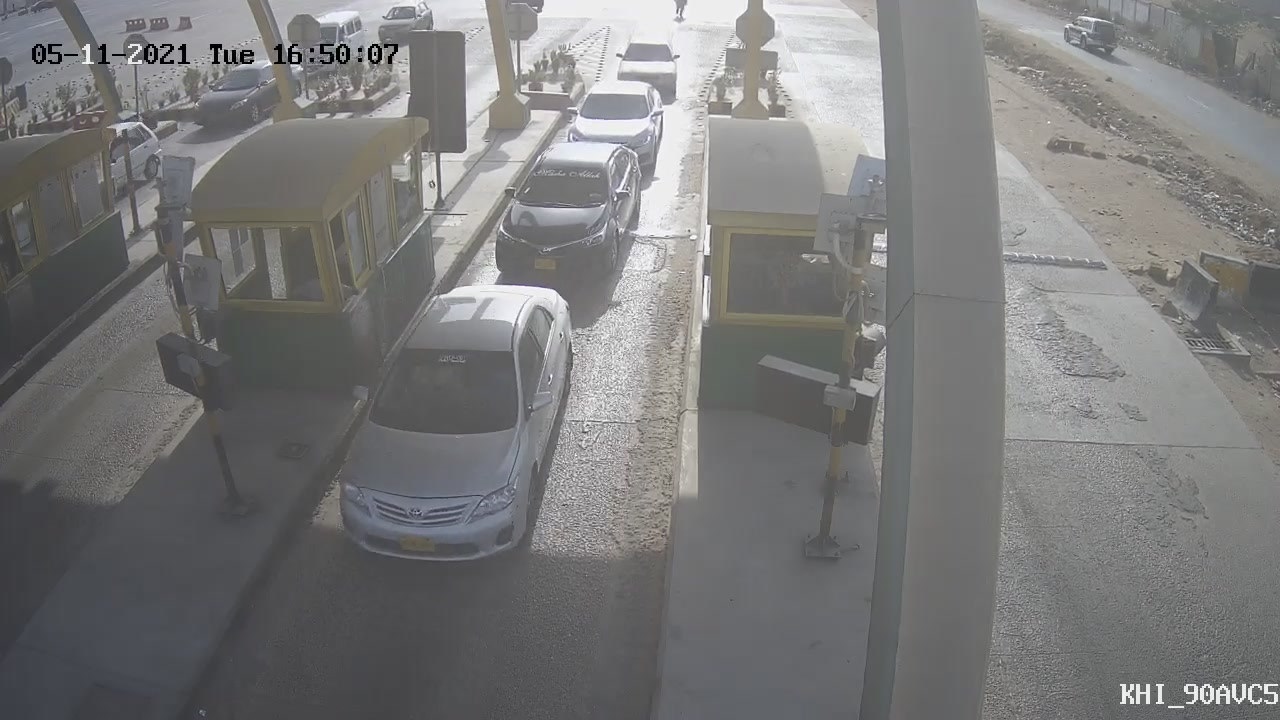F1: (309, 266, 598, 594), (485, 126, 657, 307)
